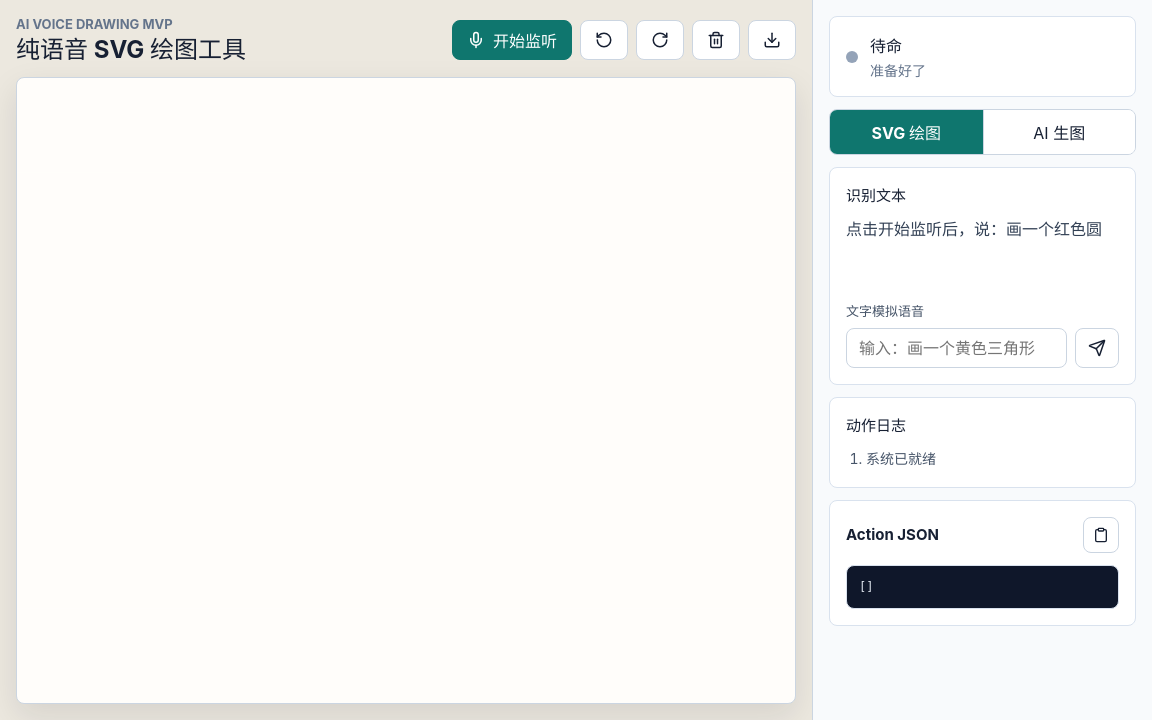
Test case: App › uses typed or transcribed text to generate an image in image mode
The width and height of the screenshot is (1152, 720).
Click the button "AI 生图".
click(1059, 132)  # box [982,110,1135,154]
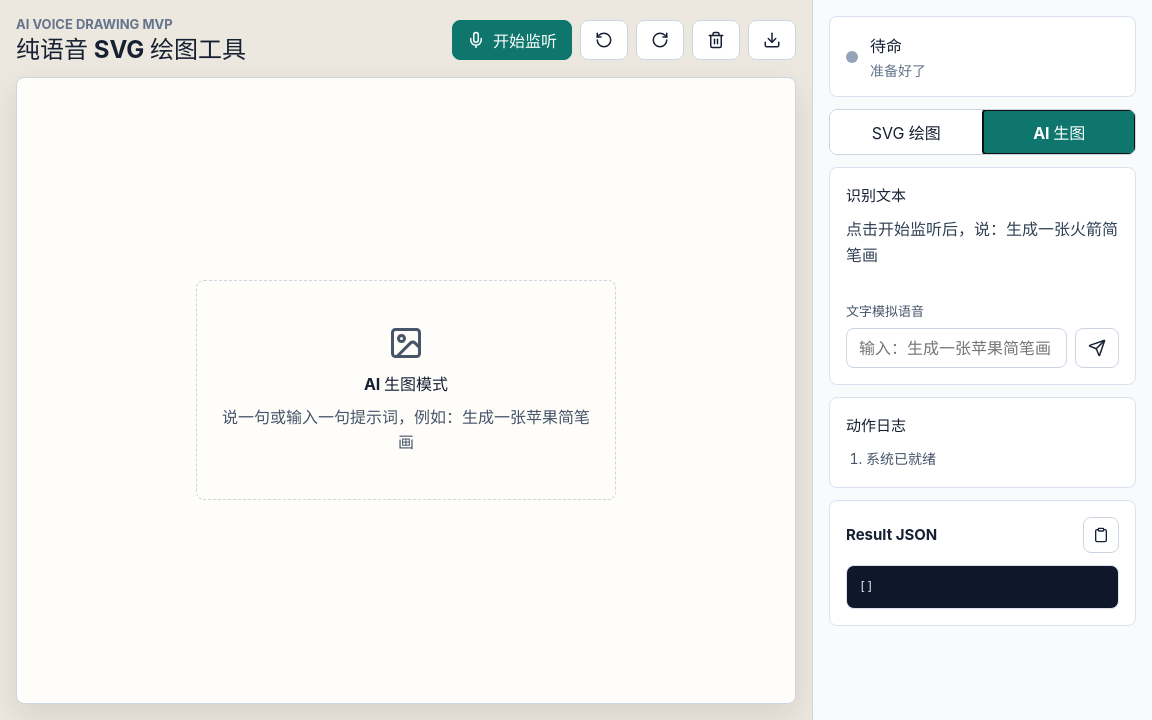
Type "生成一张苹果简笔画" into the field labelled "文字模拟语音".
click(956, 348); type("生成一张苹果简笔画")  # box [846,328,1067,368]
Then press Enter
(page scrolled)
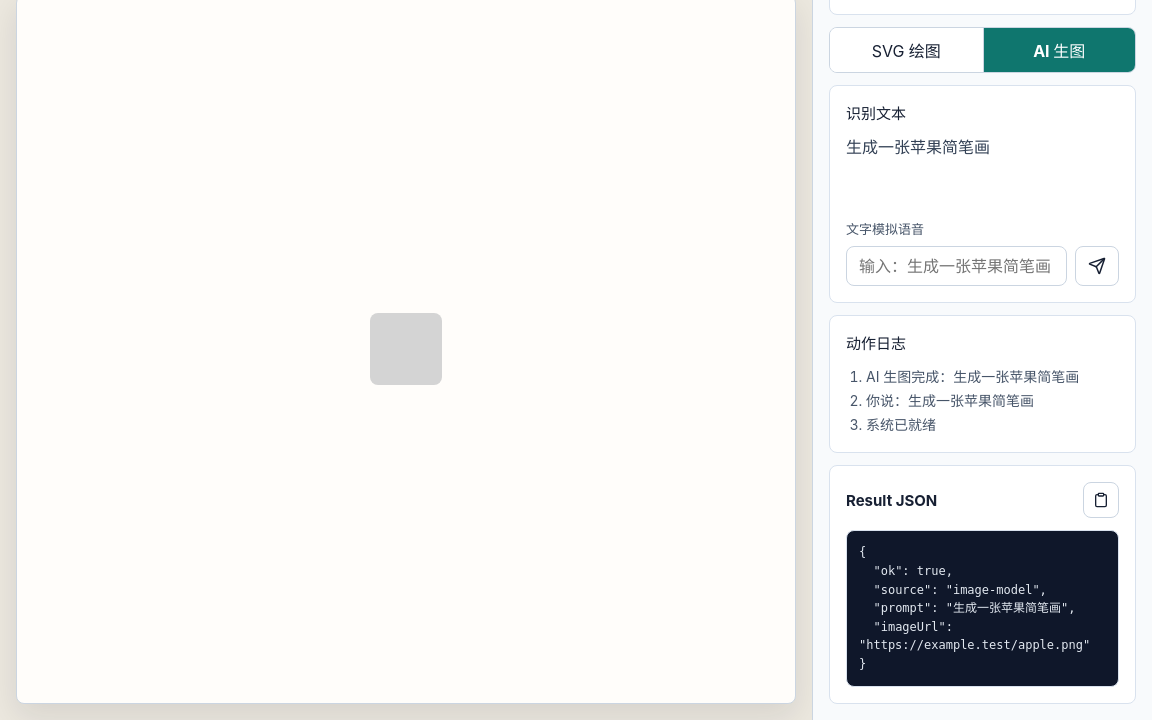
Check: the text named "最近一次生图 Result JSON" shows "\"imageUrl\": \"https://example.test/apple.png\"", box [859,545,1090,671]
